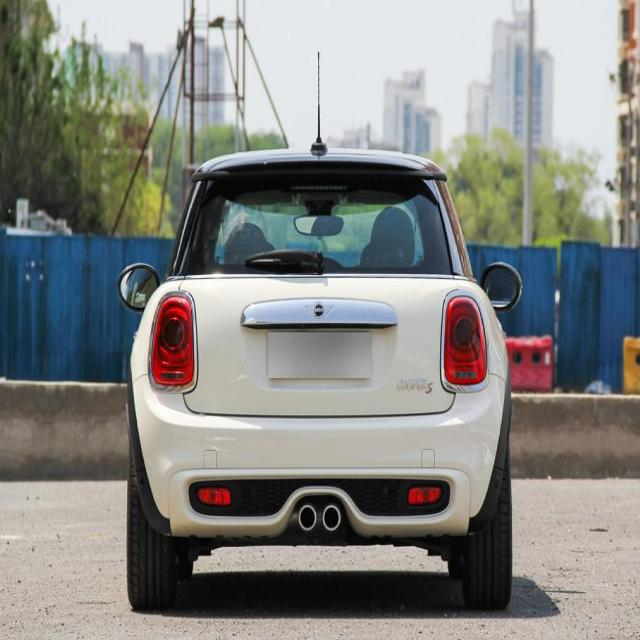back_glass: (172, 164, 457, 281)
back_left_side_light: (145, 287, 198, 396)
back_right_side_light: (440, 289, 488, 394)
front_left_side_mirror: (115, 259, 163, 319)
front_right_side_mirror: (478, 258, 524, 314)
rear_bumper: (128, 366, 516, 546)
wheel: (125, 470, 189, 616), (455, 454, 514, 609)
